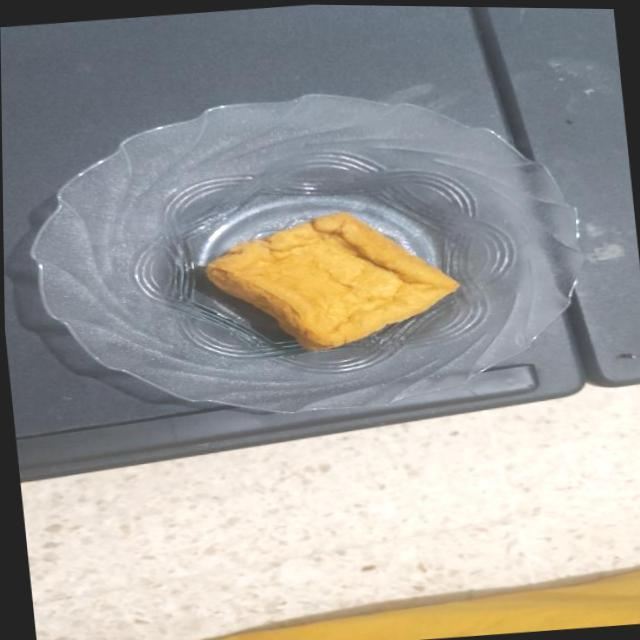tahu_goreng: (204, 212, 459, 351)
